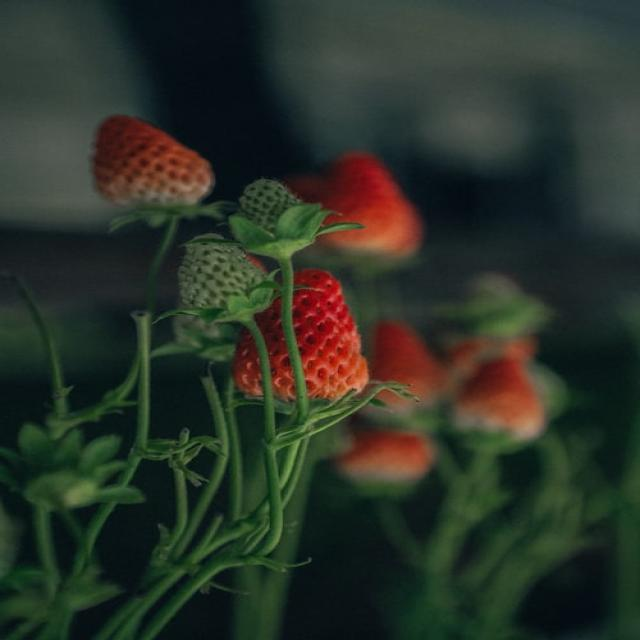immature: (180, 231, 264, 309), (235, 181, 314, 252)
mature: (90, 113, 214, 207)
